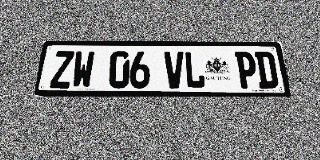0: (108, 51, 130, 88)
6: (129, 51, 150, 88)
D: (254, 52, 279, 88)
L: (184, 51, 205, 88)
P: (235, 51, 258, 88)
V: (164, 51, 185, 88)
W: (71, 51, 95, 88)
Z: (50, 51, 74, 88)
